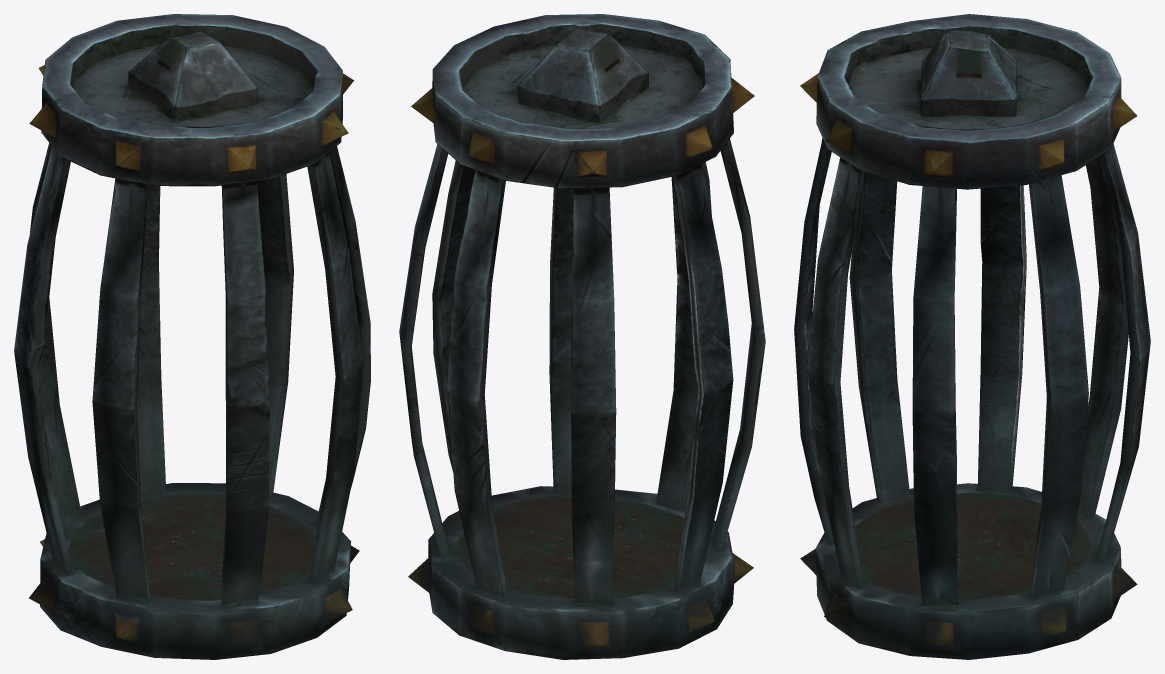
The model's file is Cage_only_NoChain.fbx.
The picture shows the model from 3 angles, left to right: view 1: azimuth 30°, elevation 25°; view 2: azimuth 150°, elevation 25°; view 3: azimuth 270°, elevation 25°; orthographic projection.
Visible parts, largest first — view 1: Cage.002; view 2: Cage.002; view 3: Cage.002.
Boxes of the visible parts, left/top/right/bottom form: Cage.002: left=14, top=14, right=370, bottom=659; Cage.002: left=399, top=14, right=765, bottom=659; Cage.002: left=794, top=14, right=1150, bottom=659.
Bounding box in the file's own units: 97.42 × 166 × 96.27.
